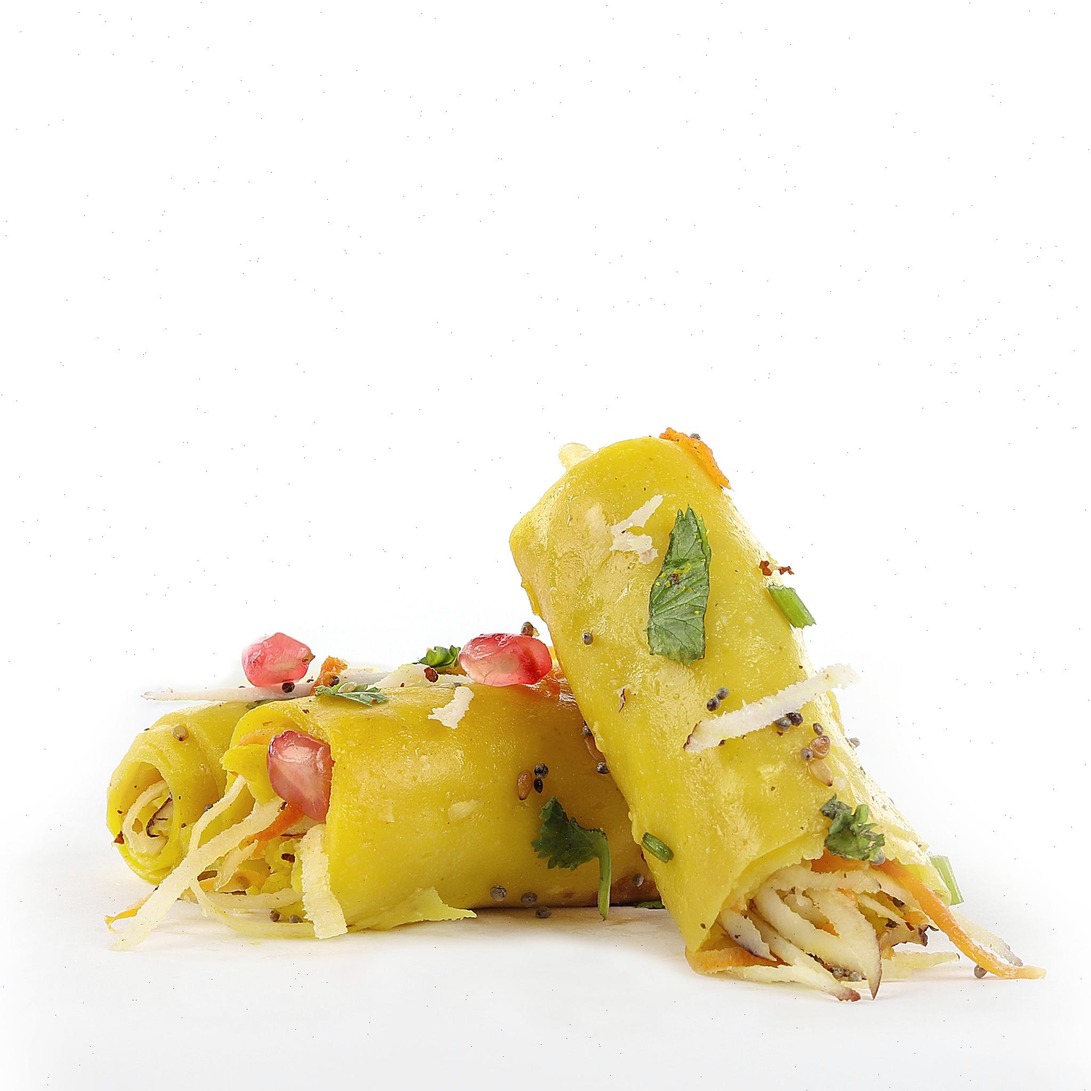khandvi: (119, 625, 983, 970)
